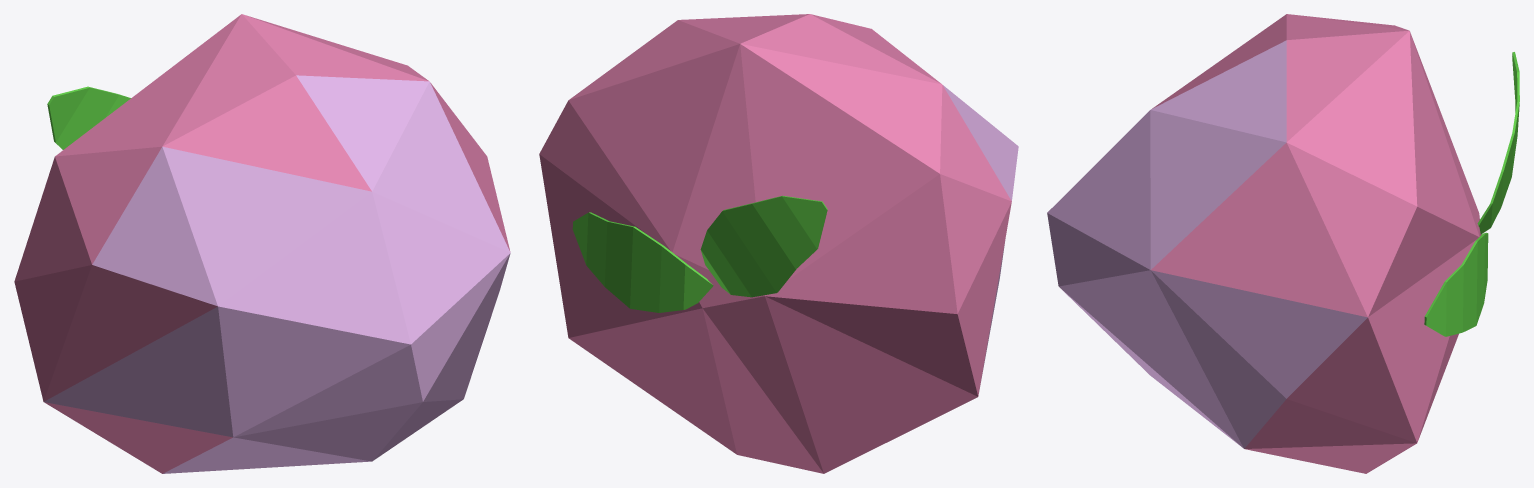
Rendered from Berry1.fbx.
3 renders of one model, left to right at view 1: azimuth 30°, elevation 25°; view 2: azimuth 150°, elevation 25°; view 3: azimuth 270°, elevation 25°, orthographic.
Visible parts, largest first — view 1: Berry3; view 2: Berry3; view 3: Berry3.
Part boxes in pixels (box(x1,y1,x2,y2)): Berry3: box(14, 14, 510, 473); Berry3: box(539, 14, 1018, 473); Berry3: box(1047, 14, 1519, 473).
Size of the model in its own units: 0.0563 by 0.0526 by 0.0523.
